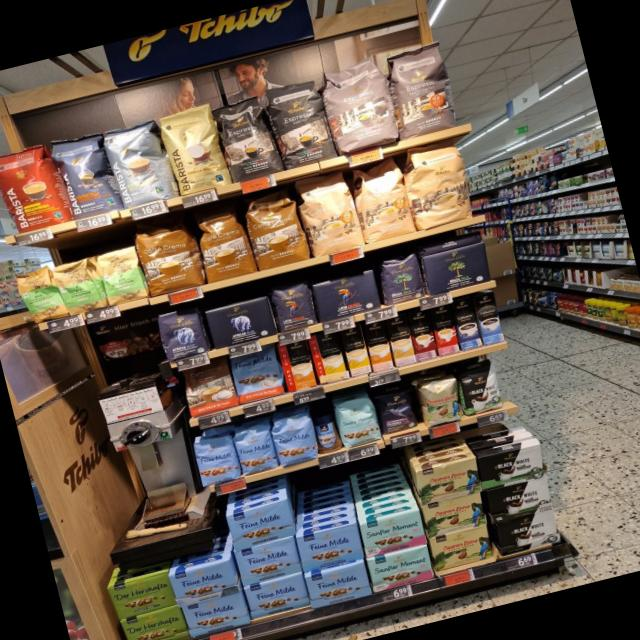AB Bohne: (154, 304, 210, 362)
AB Gemahlen: (202, 294, 279, 350)
Athiopien Bohne: (12, 262, 68, 324)
Athiopien Gemahlen: (49, 254, 108, 319), (95, 243, 148, 307)
BM Bohne: (377, 250, 428, 308)
BM Gemahlen: (420, 240, 494, 295)
BW Bohne: (454, 359, 508, 416)
BW Gemahlen: (476, 440, 548, 491), (483, 474, 555, 524), (494, 508, 564, 556)
Barista CB: (157, 102, 230, 196)
Barista CC: (101, 113, 178, 208)
Barista Espresso: (47, 127, 121, 221)
Barista Kolumbien: (0, 139, 72, 236)
C Fino Bohne: (372, 380, 421, 436)
CC Mild: (400, 136, 478, 232), (295, 168, 366, 258), (348, 156, 417, 243)
CC Vollmundig: (179, 358, 239, 418)
CC Vollmundig 36 Pads: (132, 213, 206, 297), (240, 186, 312, 272), (190, 200, 258, 284)
Colombia BB Bohne: (415, 374, 465, 430)
Colombia BB Gemahlen: (412, 454, 484, 506), (419, 490, 488, 538), (429, 523, 495, 572)
Espresso Aromatisch: (318, 53, 404, 154)
Espresso Kraftig: (264, 74, 338, 170), (212, 95, 282, 183)
Espresso M Art: (384, 40, 462, 138)
FM 36 Pads: (228, 346, 286, 405)
FM Bohne: (190, 430, 242, 488), (268, 410, 320, 467), (230, 418, 278, 475)
FM Gemahlen: (224, 498, 298, 550), (294, 520, 365, 574), (232, 534, 304, 586), (166, 556, 240, 606), (180, 589, 252, 640), (304, 559, 374, 610), (242, 572, 310, 620)
FM Instant: (311, 410, 344, 455)
Herzhatfe Mundig: (106, 570, 178, 621), (118, 604, 189, 640)
LG Bohne: (268, 278, 318, 334)
LG Gemahlen: (312, 268, 384, 322)
SM Bohne: (332, 391, 382, 449)
SM Gemahlen: (357, 506, 428, 559), (367, 544, 436, 594)
Simo CCMild: (306, 328, 348, 384)
Simo CCMild bigpack: (339, 324, 372, 378)
Simo CCVollmundig: (277, 338, 317, 392)
Simo CCVollmundig bigpack: (362, 318, 394, 372)
Simo Decaff: (385, 314, 417, 367)
Simo Es Brazil: (428, 302, 461, 356)
Simo Es Caramel: (406, 308, 438, 362)
Simo Es Kraft: (451, 297, 483, 350)
Simo Es Vanilla: (473, 290, 504, 344)
